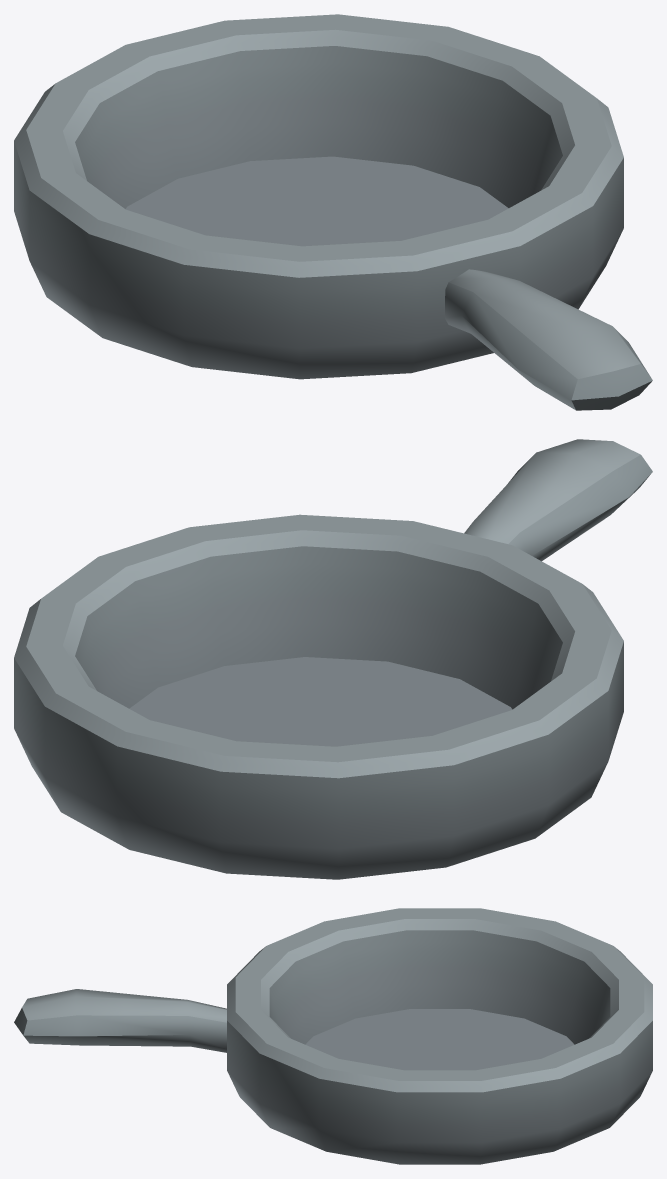
Rendered from pan.glb.
3 views of the same model, one above another, from view 1: azimuth 30°, elevation 25°; view 2: azimuth 150°, elevation 25°; view 3: azimuth 270°, elevation 25° (orthographic). The views are drawn at different scales.
Visible parts, largest first — view 1: pan_A; view 2: pan_A; view 3: pan_A.
Boxes of the visible parts, x1=… form: pan_A: x1=14, y1=14, x2=652, y2=410; pan_A: x1=14, y1=439, x2=652, y2=879; pan_A: x1=14, y1=908, x2=652, y2=1164.
Size of the model in its own units: 1 by 0.25 by 1.5.
Materials: 1 (1 with a texture image).
